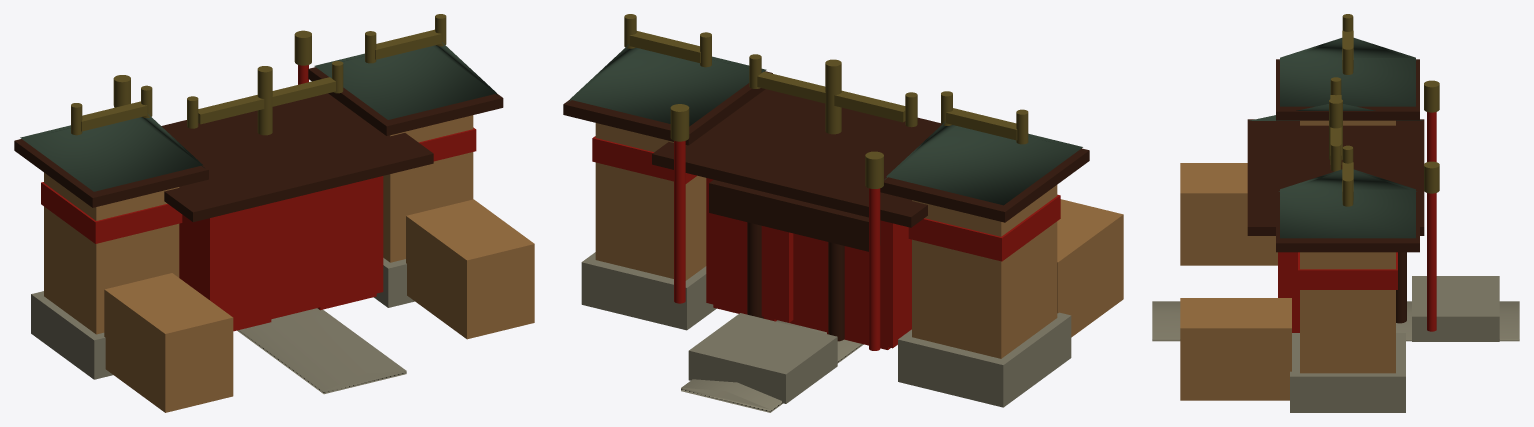
Rendered from NorthPalaceSouthGate.fbx.
3 views of the same model, side by side, from view 1: azimuth 30°, elevation 25°; view 2: azimuth 150°, elevation 25°; view 3: azimuth 270°, elevation 25° (orthographic). The views are drawn at different scales.
Parts seen in each view (by area): view 1: gate_mass, gatehouse_eave_belt, east_screen, west_screen, east_que, road, east_que_roof_2, west_que_roof_2, west_que, east_que_base, east_que_eave_belt, east_que_belt (+9 smaller); view 2: gatehouse_eave_belt, east_que, west_que, gate_mass, ceremonial_stair, east_que_roof_2, east_que_base, west_que_roof_2, east_screen, west_que_base, gate_lintel, east_que_belt (+16 smaller); view 3: west_screen, gatehouse_eave_belt, west_que, east_screen, west_que_roof_2, east_que_roof_2, west_que_base, ceremonial_stair, west_que_eave_belt, road, west_que_belt, east_que_eave_belt (+14 smaller).
Part boxes in pixels (<box>): gate_mass: <box>179,176,383,328</box>; gatehouse_eave_belt: <box>161,93,433,222</box>; east_screen: <box>104,273,233,412</box>; west_screen: <box>406,199,534,339</box>; east_que: <box>44,172,179,334</box>; road: <box>237,308,406,394</box>; east_que_roof_2: <box>20,113,202,191</box>; west_que_roof_2: <box>314,42,496,119</box>; west_que: <box>383,115,473,262</box>; east_que_base: <box>31,291,112,379</box>; east_que_eave_belt: <box>14,139,208,207</box>; east_que_belt: <box>41,182,182,243</box>; gatehouse_eave_belt: <box>652,89,941,227</box>; east_que: <box>912,185,1057,358</box>; west_que: <box>595,123,706,280</box>; gate_mass: <box>706,178,911,348</box>; ceremonial_stair: <box>688,313,837,403</box>; east_que_roof_2: <box>886,121,1082,205</box>; east_que_base: <box>898,312,1071,407</box>; west_que_roof_2: <box>570,44,766,126</box>; east_screen: <box>1057,199,1123,337</box>; west_que_base: <box>581,252,716,330</box>; gate_lintel: <box>709,180,880,251</box>; east_que_belt: <box>908,194,1060,261</box>; west_screen: <box>1180,298,1291,400</box>; gatehouse_eave_belt: <box>1247,119,1424,235</box>; west_que: <box>1300,252,1395,373</box>; east_screen: <box>1180,163,1277,265</box>; west_que_roof_2: <box>1280,169,1415,238</box>; east_que_roof_2: <box>1280,38,1415,106</box>; west_que_base: <box>1290,333,1405,412</box>; ceremonial_stair: <box>1412,276,1499,341</box>; west_que_eave_belt: <box>1276,191,1419,252</box>; road: <box>1152,301,1519,341</box>; west_que_belt: <box>1298,252,1397,289</box>; east_que_eave_belt: <box>1276,59,1419,120</box>.
Size of the model in its own units: 109 by 63.88 by 92.
